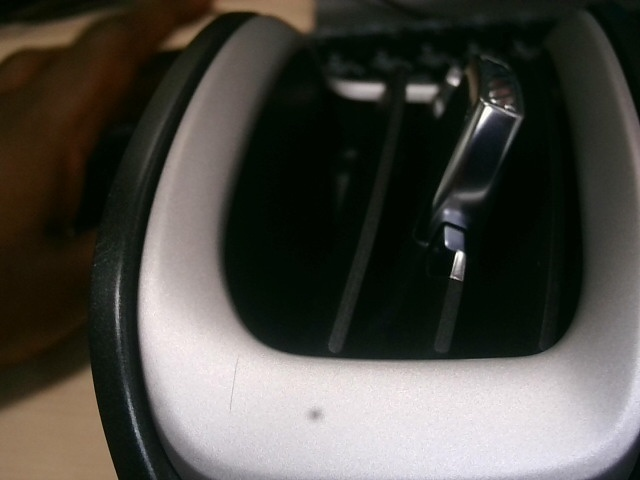NG: (225, 352, 254, 419), (88, 233, 117, 278)
